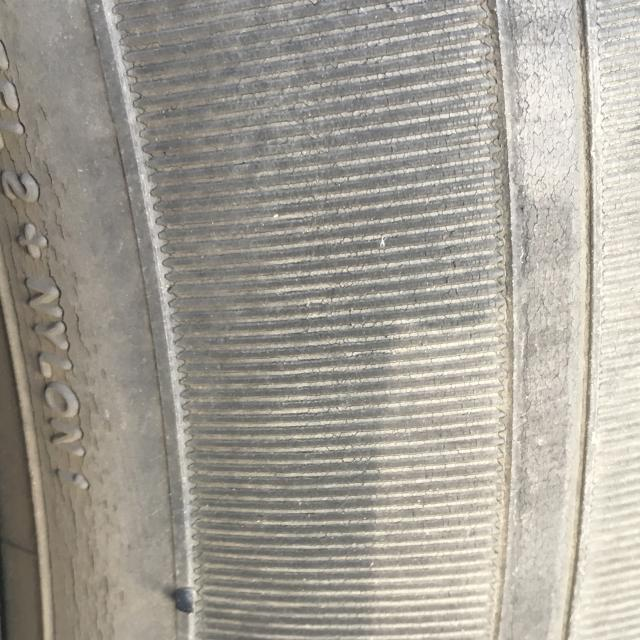Cracks: (0, 0, 142, 639)
Non-defective: (157, 0, 613, 640)
